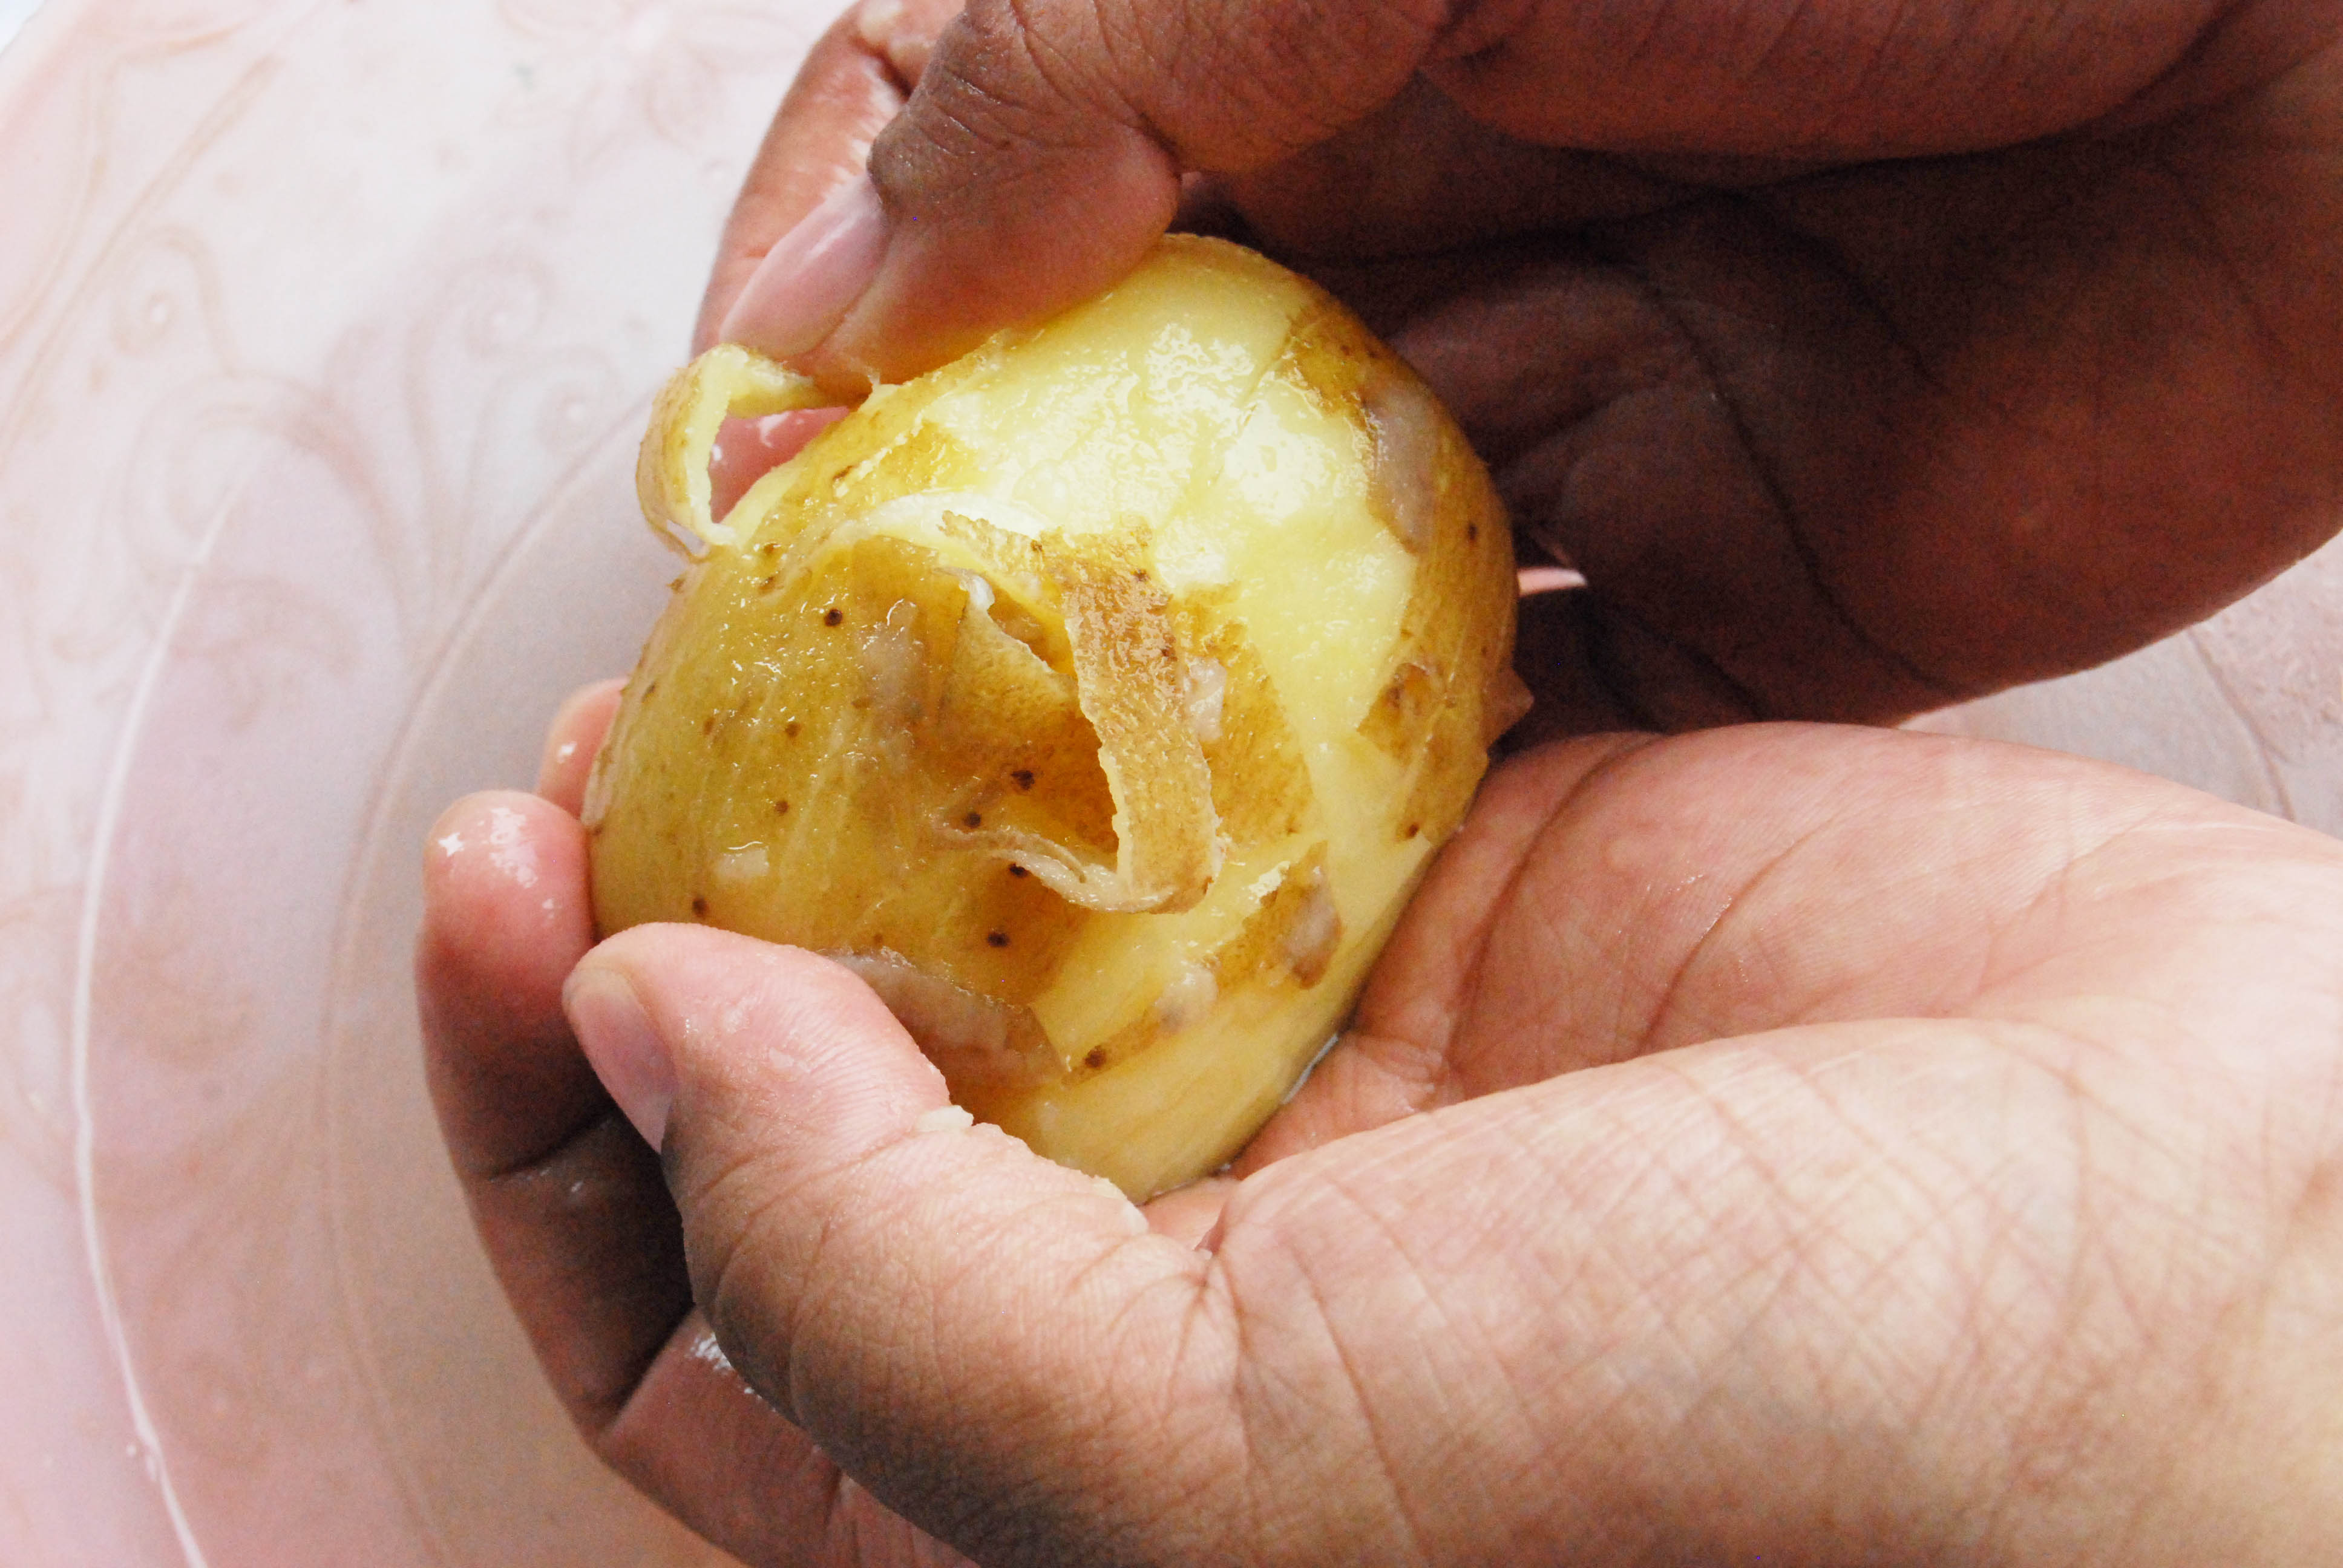boiled potatoes: (693, 427, 1468, 966)
